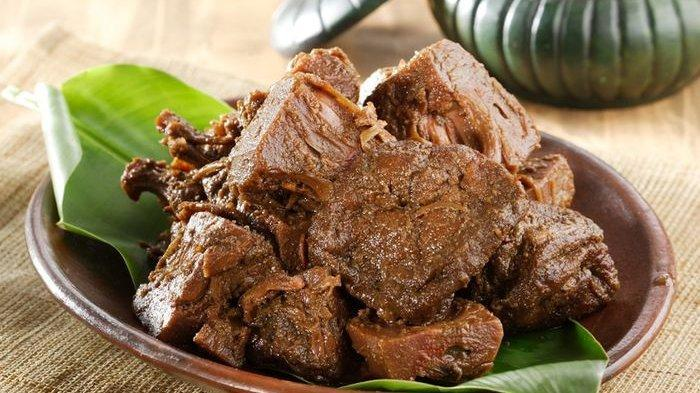gudeg: (121, 38, 619, 379)
